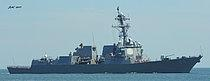MIL_Ship: (6, 6, 203, 74)
